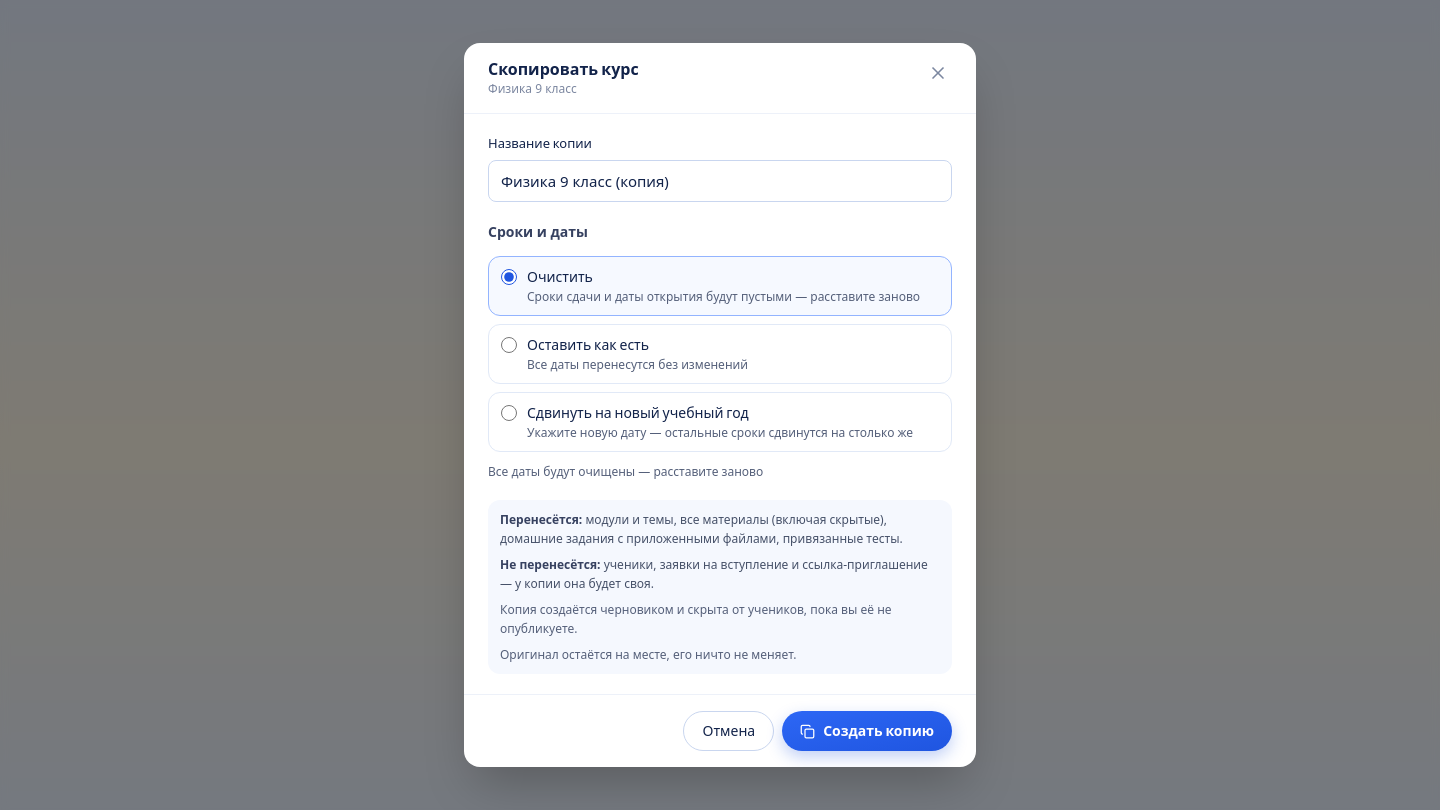
Test case: CopyCourseDialog › пустое название не даёт скопировать
Clear the field labelled "Название копии" at (720, 180), box 488,160 -> 952,202
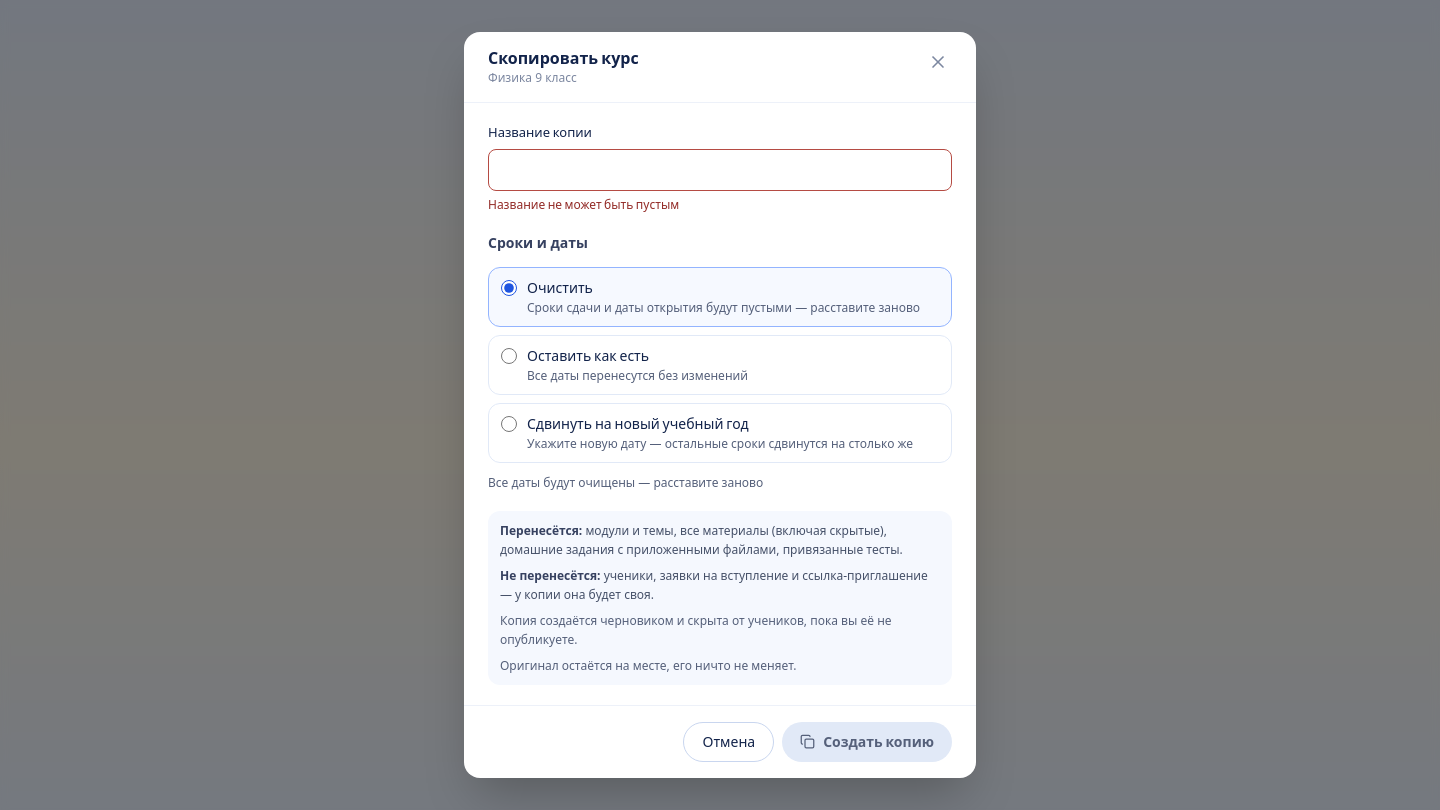
Expected: the button "Создать копию" is disabled, 782,722 -> 952,762
